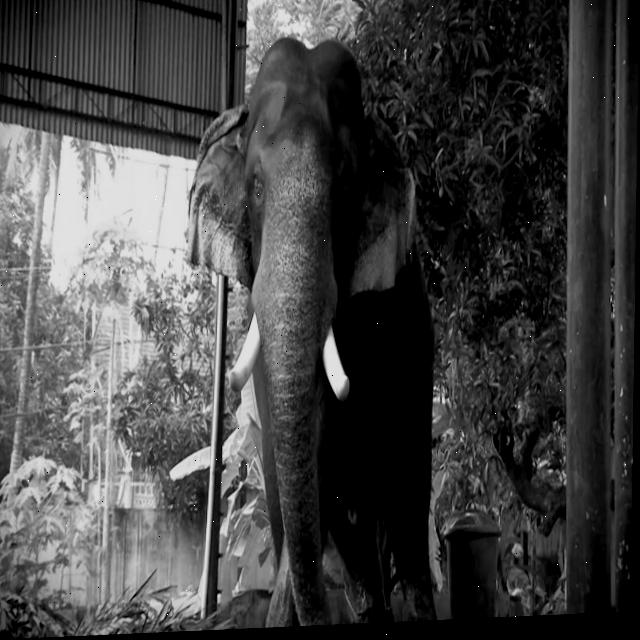Elephant: (180, 28, 446, 630)
